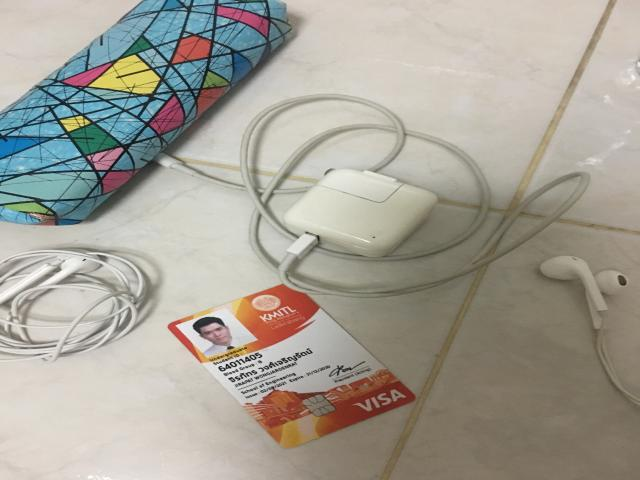wire: (242, 95, 590, 298), (0, 250, 147, 361), (540, 256, 640, 405)
